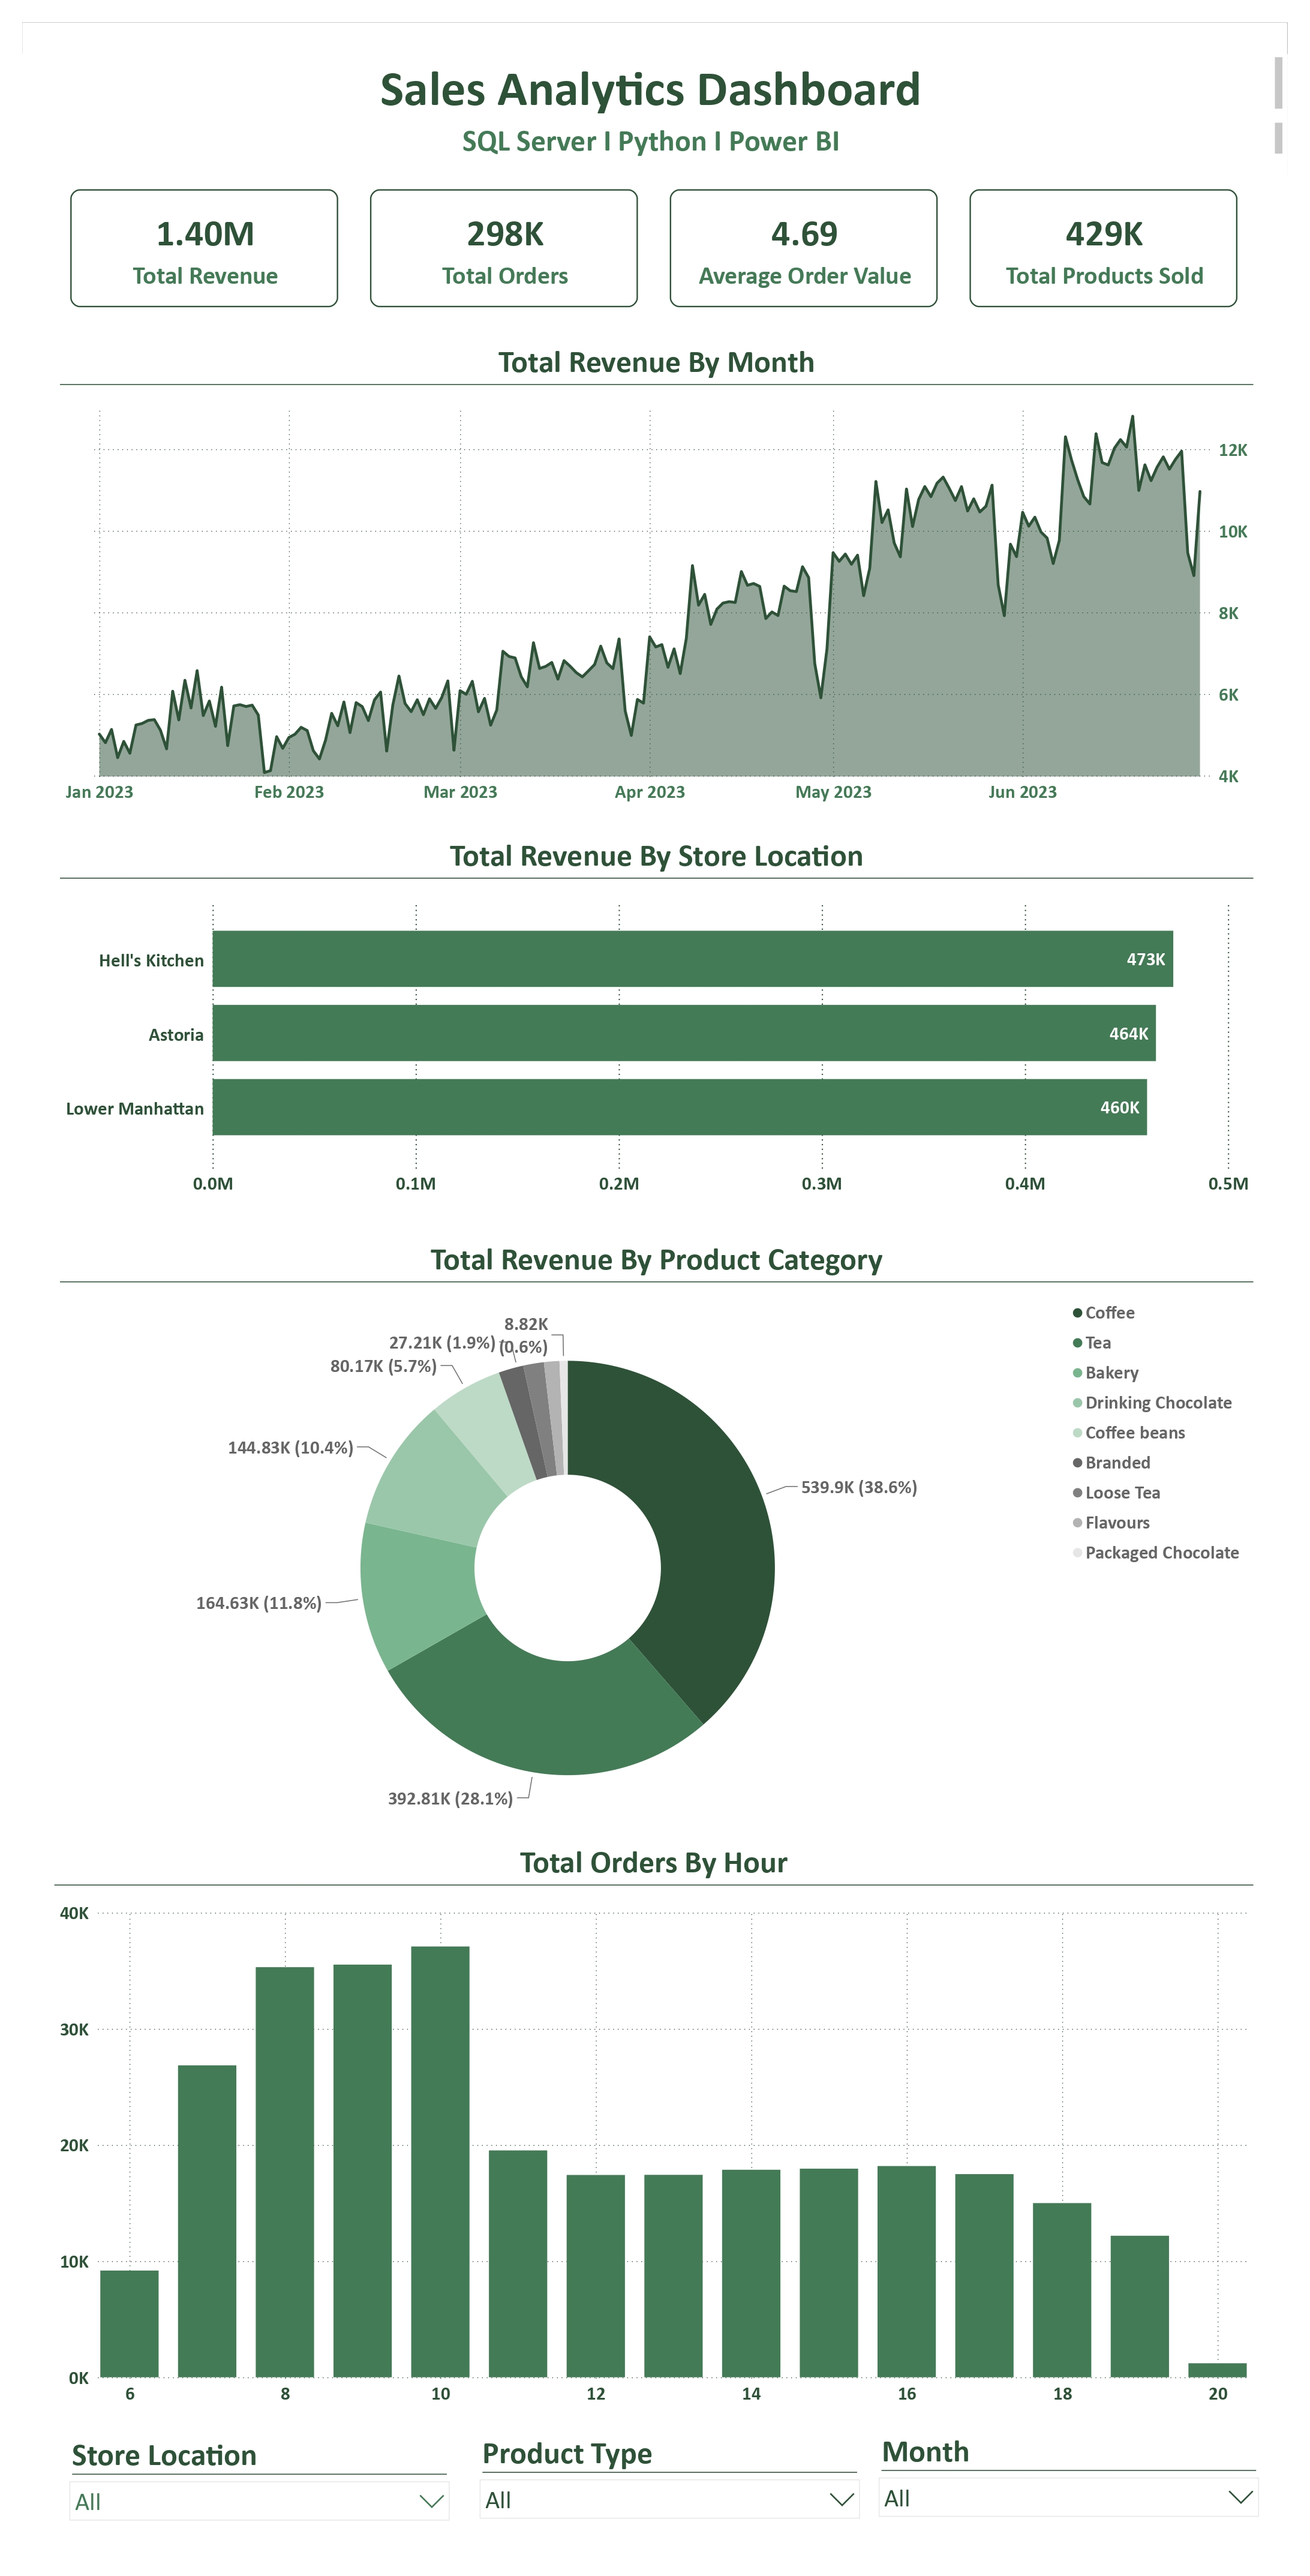

Layout of this report page (visuals, bound fields, positions):
{"tool":"powerbi","page":{"name":"Page 1","canvas":[1350,2700],"ordinal":0},"visuals":[{"type":"cardVisual","fields":{"Data":["Sales.Total Orders"]},"box":[354.3,160,320,160],"z":0},{"type":"cardVisual","fields":{"Data":["Sales.Total Products Sold"]},"box":[994.3,160,320,160],"z":1000},{"type":"cardVisual","fields":{"Data":["Sales.Average Order Value"]},"box":[674.3,160,320,160],"z":2000},{"type":"textbox","box":[0,31.4,1350,70],"z":3000},{"type":"textbox","box":[0,101.4,1350,45.7],"z":4000},{"type":"lineChart","title":"Total Revenue By Month ","fields":{"Category":["Sales.transaction_date.Variation.Date Hierarchy.Year","Sales.transaction_date.Variation.Date Hierarchy.Quarter","Sales.transaction_date.Variation.Date Hierarchy.Month","Sales.transaction_date.Variation.Date Hierarchy.Day"],"Y":["Sales.Total Revenue"]},"box":[40,340,1274.3,500],"z":5000},{"type":"donutChart","title":"Total Revenue By Product Category","fields":{"Category":["Sales.product_category"],"Y":["Sales.Total Revenue"]},"box":[40,1298,1274,644],"z":6000},{"type":"clusteredColumnChart","title":"Total Orders By Hour","fields":{"Category":["Sales.Hour"],"Y":["Sales.Total Orders"]},"box":[34,1942,1280,608],"z":8000},{"type":"clusteredBarChart","title":"Total Revenue By Store Location","fields":{"Category":["Sales.store_location"],"Y":["Sales.Total Revenue"]},"box":[40,867.1,1274.3,391.4],"z":9000},{"type":"slicer","fields":{"Values":["Sales.store_location"]},"box":[40,2570,426,125],"z":10000},{"type":"slicer","fields":{"Values":["Sales.product_type"]},"box":[478,2568,426,125],"z":11000},{"type":"slicer","fields":{"Values":["Sales.Month"]},"box":[904,2566,426,125],"z":12000},{"type":"cardVisual","fields":{"Data":["Sales.Total Revenue"]},"box":[34.3,160,320,160],"z":13000}]}

Visuals, with their boxes on the page's 1350x2700 design canvas (x1, y1, x2, y2). These are canvas units, not pixel positions in the 1310x2576 screenshot, which may show the page scaled, cropped or inside an application window:
cardVisual - Sales.Total Orders: 354:160:674:320
cardVisual - Sales.Total Products Sold: 994:160:1314:320
cardVisual - Sales.Average Order Value: 674:160:994:320
textbox: 0:31:1350:101
textbox: 0:101:1350:147
"Total Revenue By Month " lineChart: 40:340:1314:840
"Total Revenue By Product Category" donutChart: 40:1298:1314:1942
"Total Orders By Hour" clusteredColumnChart: 34:1942:1314:2550
"Total Revenue By Store Location" clusteredBarChart: 40:867:1314:1258
slicer - Sales.store_location: 40:2570:466:2695
slicer - Sales.product_type: 478:2568:904:2693
slicer - Sales.Month: 904:2566:1330:2691
cardVisual - Sales.Total Revenue: 34:160:354:320
